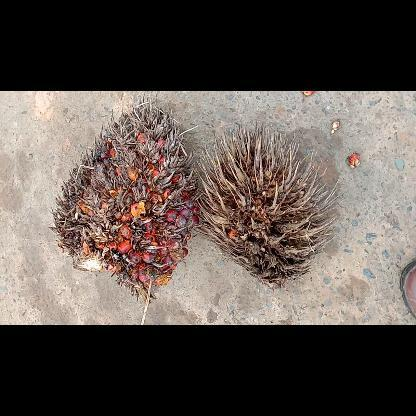Janjang kosong: (193, 119, 343, 288)
Terlalu masak: (50, 94, 202, 324)
